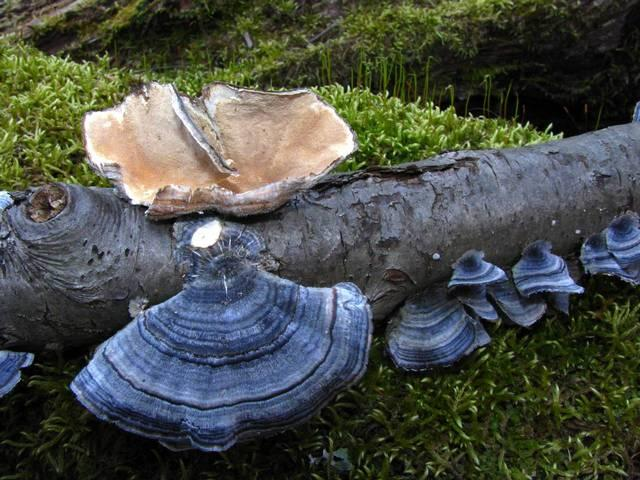Non-edible Mushroom: (67, 219, 374, 453), (81, 79, 358, 221), (468, 208, 640, 319), (383, 285, 491, 372)
